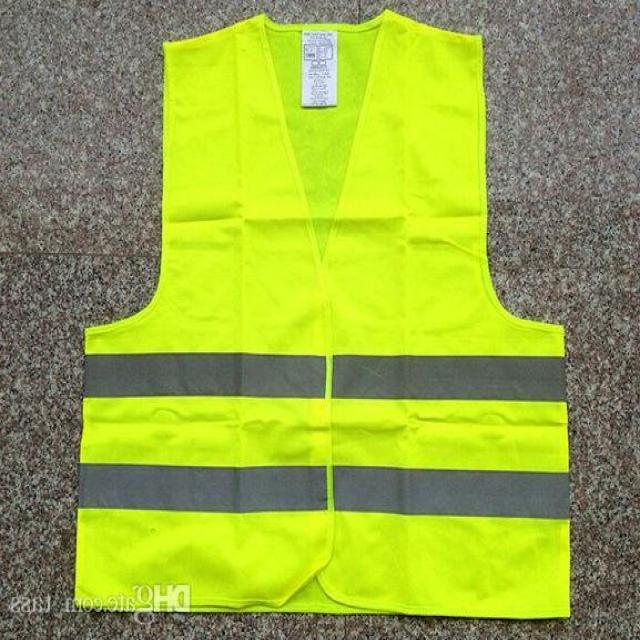Reflective-Jacket: (40, 0, 618, 640)
